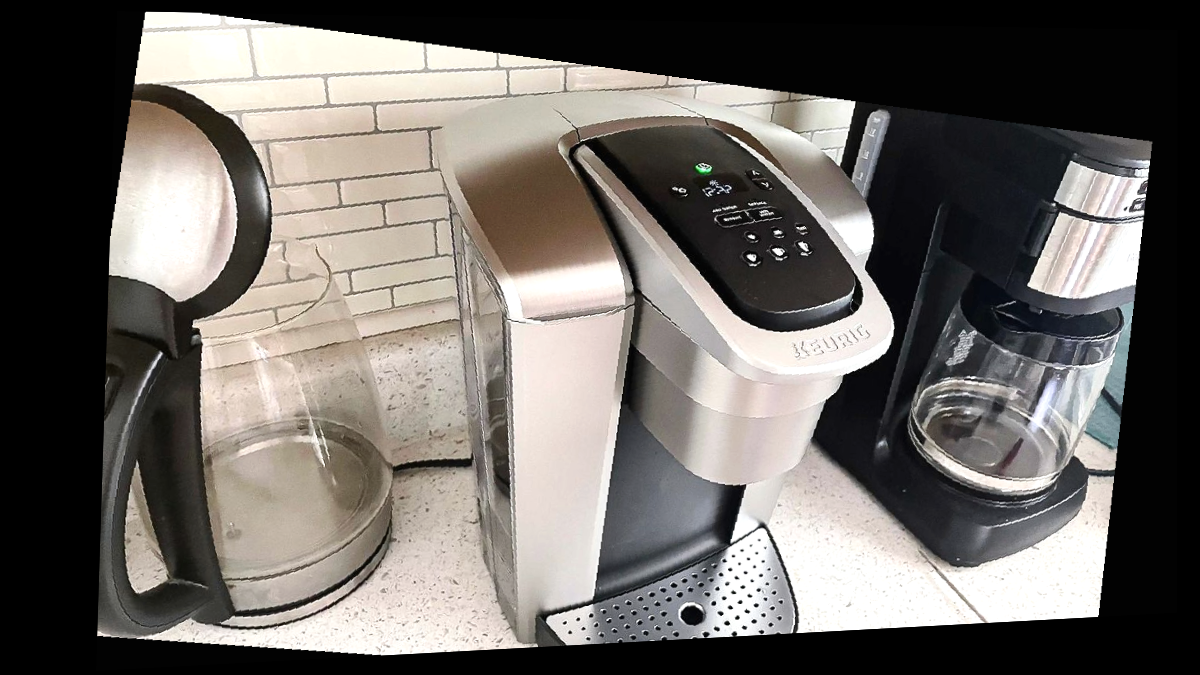10oz: (767, 242, 790, 262)
12oz: (792, 239, 816, 259)
4oz: (743, 229, 761, 244)
6oz: (769, 225, 788, 239)
8oz: (741, 250, 763, 268)
add_water: (709, 195, 745, 217)
descale: (743, 188, 779, 209)
hot: (747, 201, 783, 225)
iced: (794, 221, 813, 236)
power: (693, 161, 716, 175)
strong: (713, 208, 750, 232)
